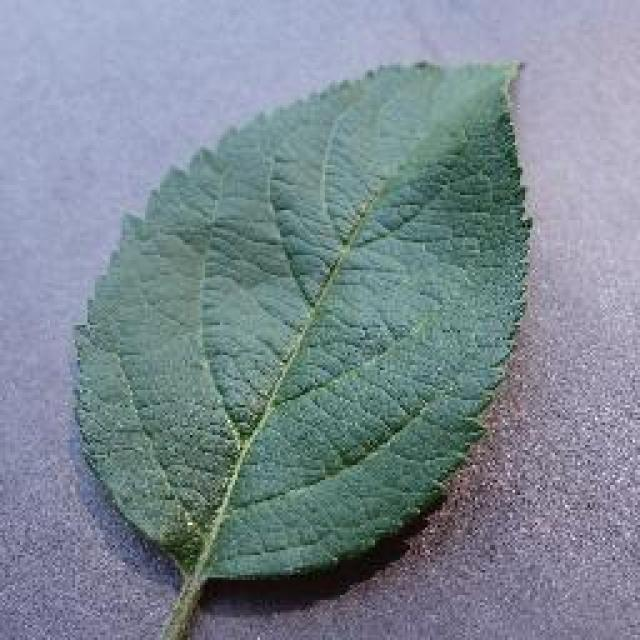apple healthy: (67, 52, 535, 638)
